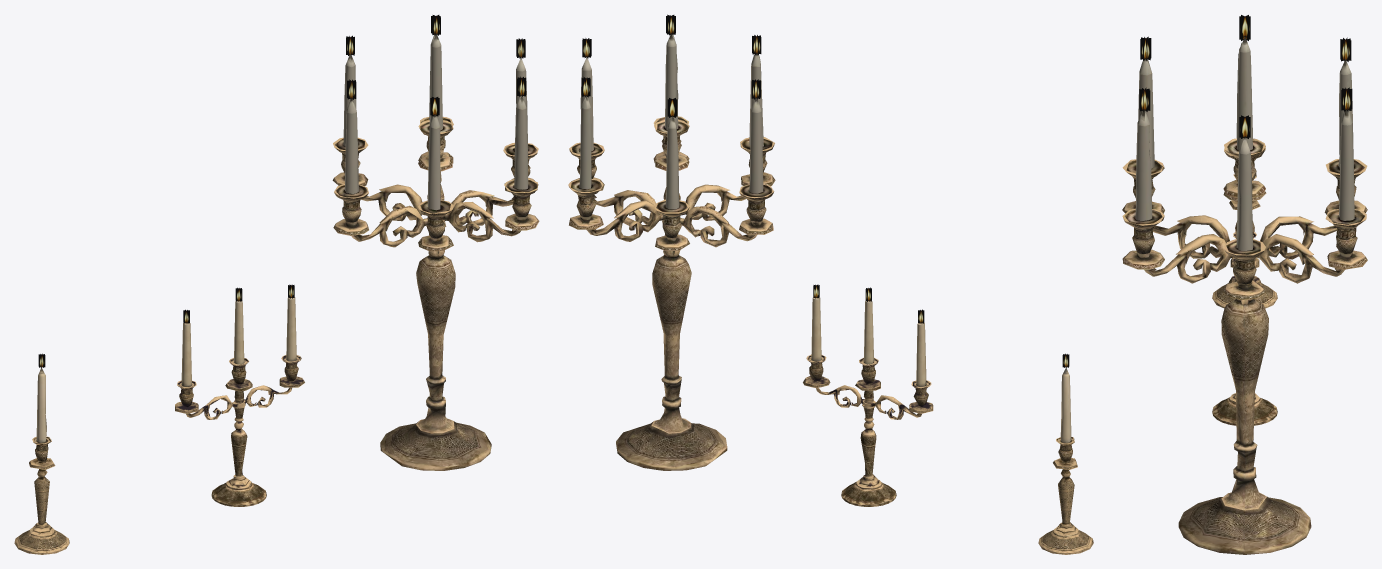
The model's file is velas.glb.
3 renders of one model, left to right at view 1: azimuth 30°, elevation 25°; view 2: azimuth 150°, elevation 25°; view 3: azimuth 270°, elevation 25°, orthographic. The views are drawn at different scales.
Parts seen in each view (by area): view 1: brass_candleholder_03, brass_candleholder_02, brass_candleholder_01; view 2: brass_candleholder_03, brass_candleholder_02, brass_candleholder_01; view 3: brass_candleholder_03, brass_candleholder_02, brass_candleholder_01.
Boxes of the visible parts, <box> form: brass_candleholder_03: <box>332,15,539,470</box>; brass_candleholder_02: <box>175,284,304,506</box>; brass_candleholder_01: <box>14,353,69,554</box>; brass_candleholder_03: <box>568,14,775,470</box>; brass_candleholder_02: <box>803,284,933,506</box>; brass_candleholder_01: <box>1038,353,1093,554</box>; brass_candleholder_03: <box>1122,15,1367,554</box>; brass_candleholder_02: <box>1212,232,1277,425</box>; brass_candleholder_01: <box>1212,174,1277,308</box>.
Size of the model in its own units: 1.05 by 0.8353 by 0.3644.
5 materials, 5 textured.
